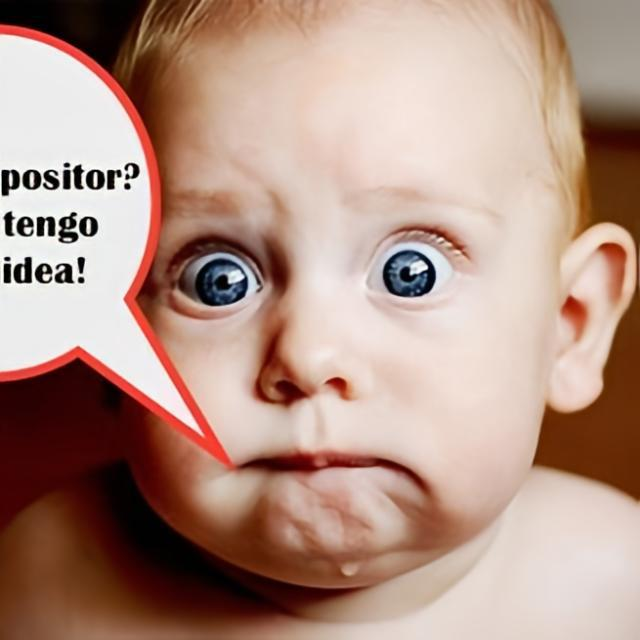fear: (112, 1, 552, 592)
